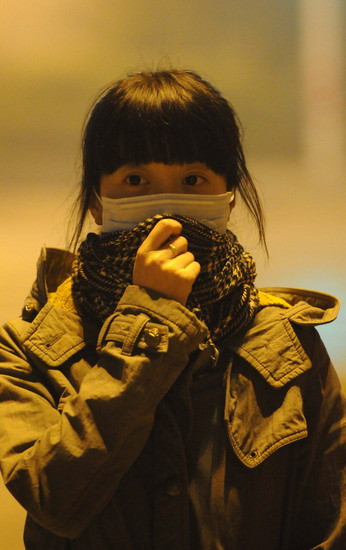face_mask: (104, 140, 234, 258)
